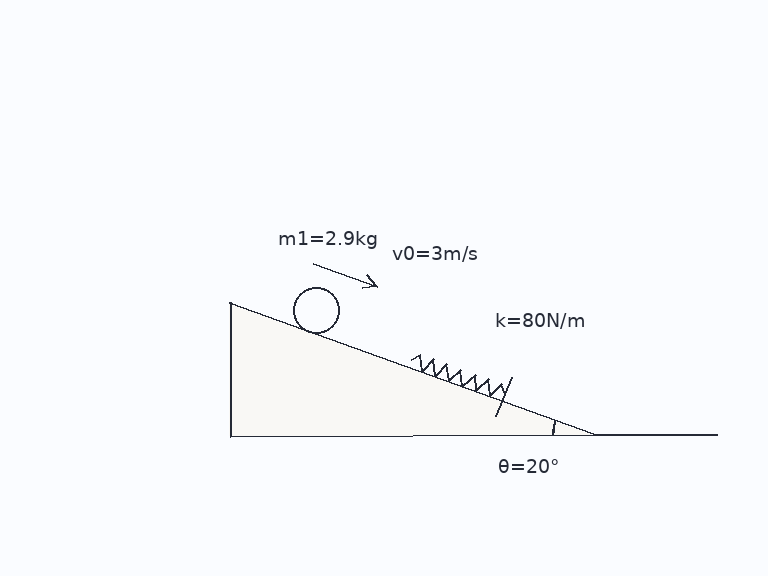ball: (291, 285, 341, 335)
ramp: (227, 301, 595, 437)
spring: (409, 353, 507, 397)
